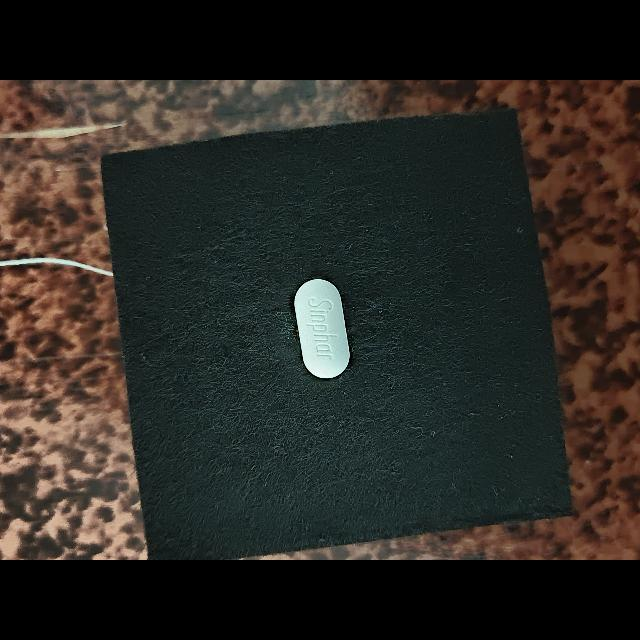Intact Pill: (294, 279, 350, 378)
